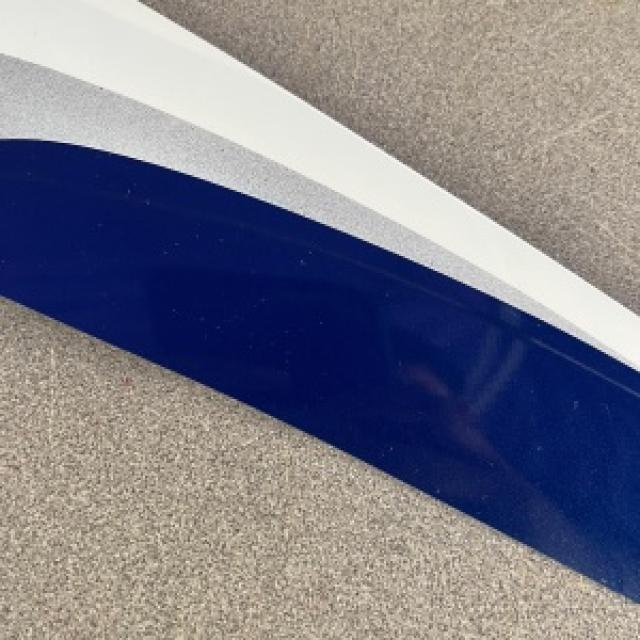healthy: (0, 299, 638, 638)
